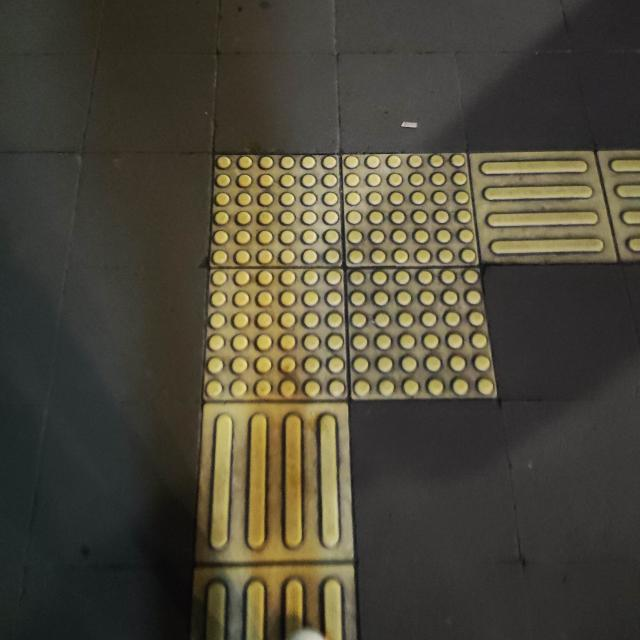kanan: (120, 98, 640, 510)
